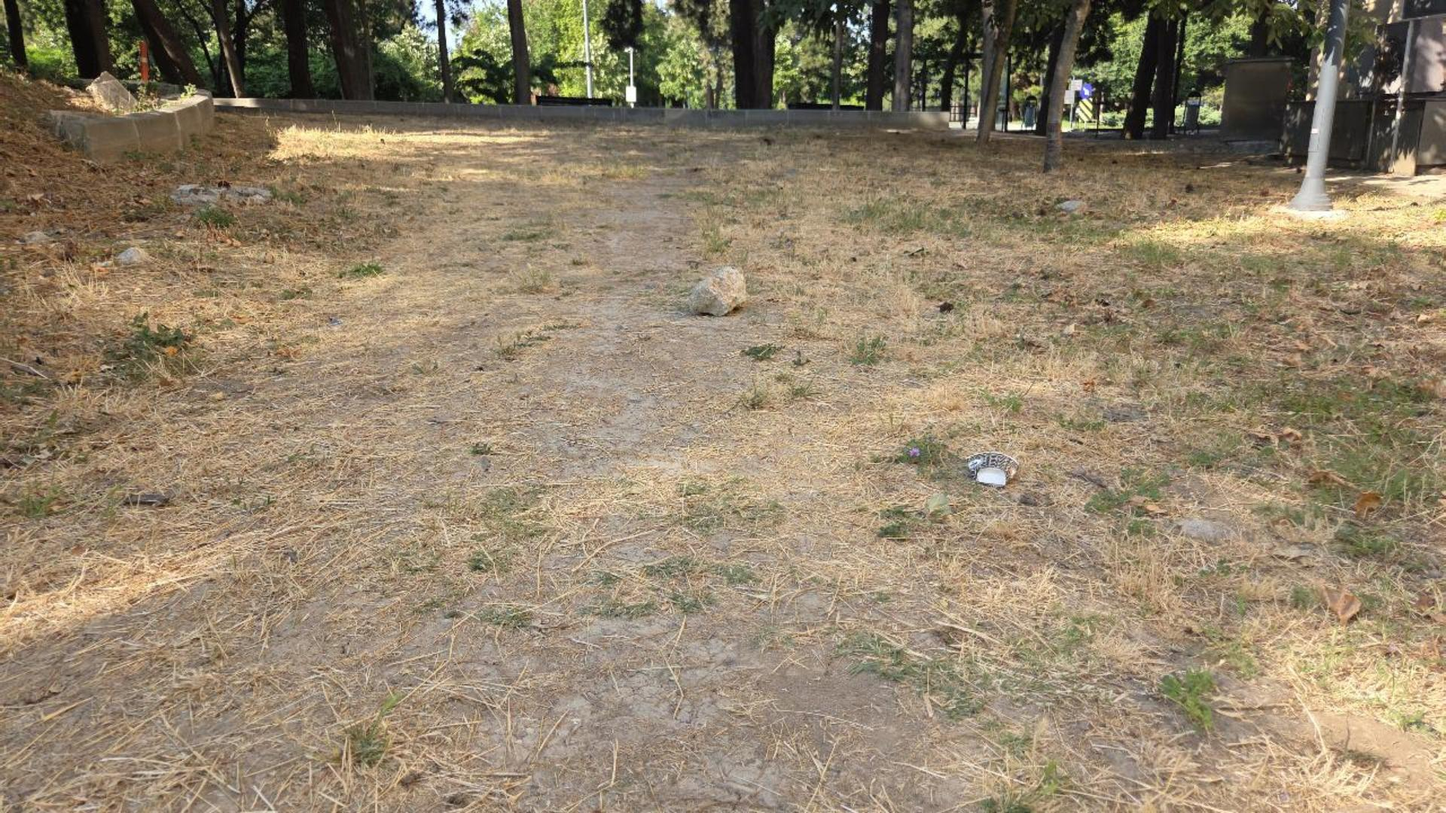rock: (688, 266, 746, 315), (169, 184, 271, 206), (86, 71, 134, 113), (1175, 518, 1235, 541), (115, 246, 148, 265), (1056, 199, 1087, 213), (19, 230, 52, 243)
